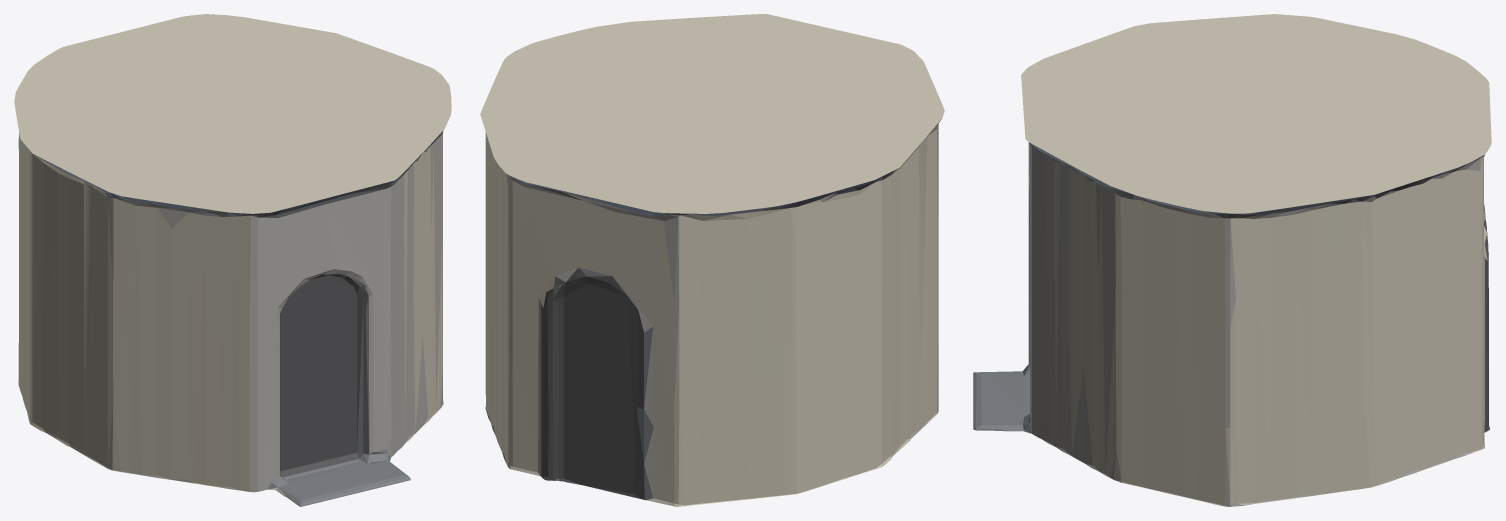
The model's file is etape-1.glb.
3 renders of one model, left to right at view 1: azimuth 30°, elevation 25°; view 2: azimuth 150°, elevation 25°; view 3: azimuth 270°, elevation 25°, orthographic. The views are drawn at different scales.
Parts seen in each view (by area): view 1: geometry_0; view 2: geometry_0; view 3: geometry_0.
Boxes of the visible parts, <box> form: geometry_0: <box>14,14,451,506</box>; geometry_0: <box>480,14,944,506</box>; geometry_0: <box>973,14,1491,506</box>.
Bounding box in the file's own units: 0.7767 × 0.5346 × 0.8523.
